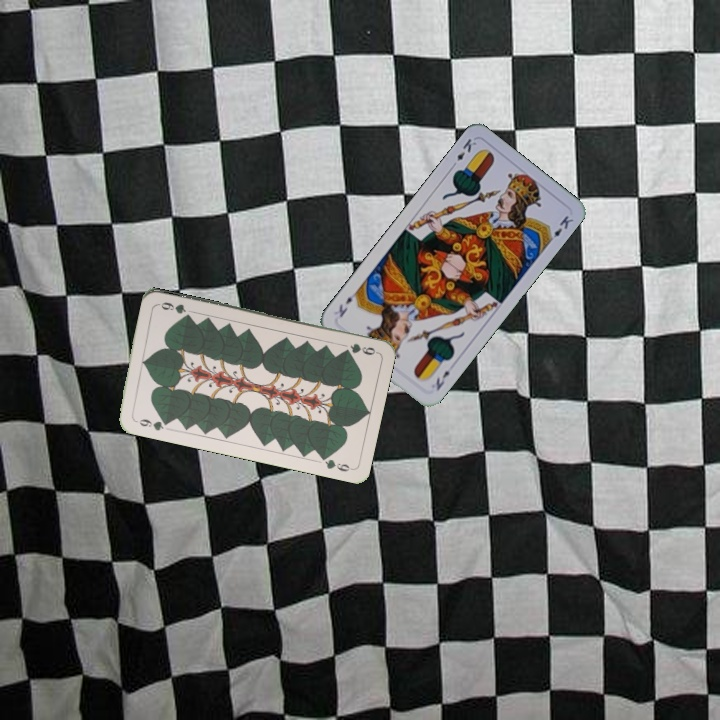EK: (447, 134, 479, 171), (432, 366, 452, 393)
G9: (130, 415, 171, 433), (346, 339, 380, 358)
